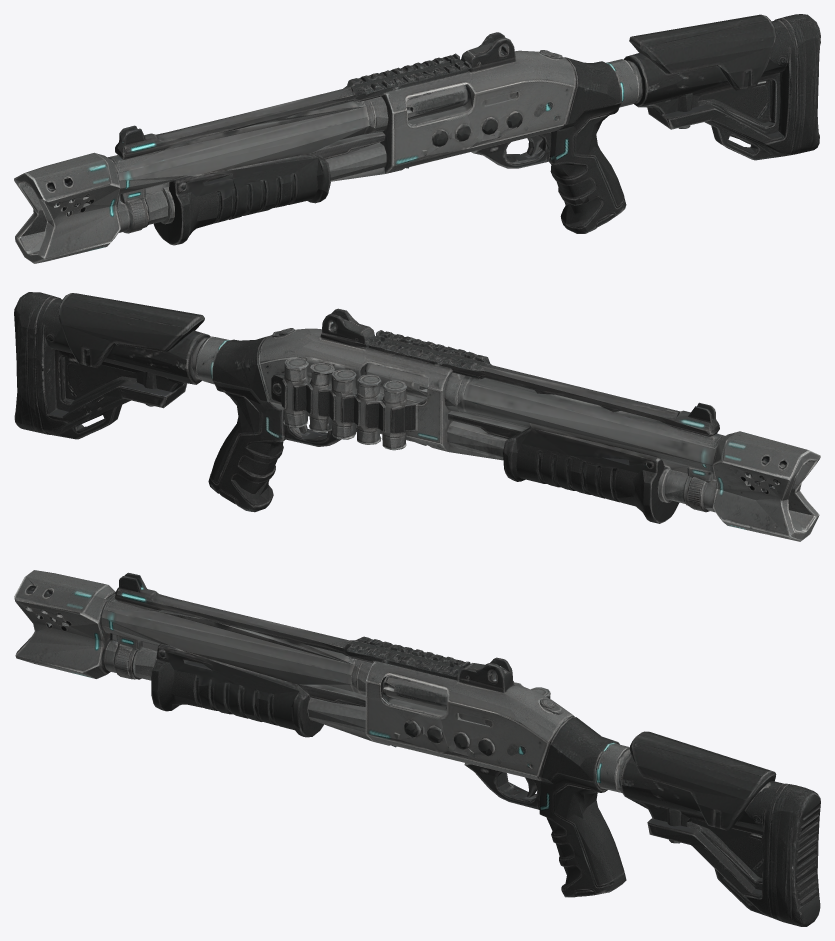
File: scatter_gun.glb
The picture shows the model from 3 angles, top to bottom: view 1: azimuth 30°, elevation 25°; view 2: azimuth 150°, elevation 25°; view 3: azimuth 330°, elevation 25°; orthographic projection.
Parts seen in each view (by area): view 1: Mesh_0; view 2: Mesh_0; view 3: Mesh_0.
Part boxes in pixels (x1=…): Mesh_0: x1=14, y1=14, x2=820, y2=263; Mesh_0: x1=14, y1=292, x2=820, y2=541; Mesh_0: x1=14, y1=570, x2=820, y2=926.
Bounding box in the file's own units: 1.9 × 0.4904 × 0.1791.
1 material, 1 textured.
